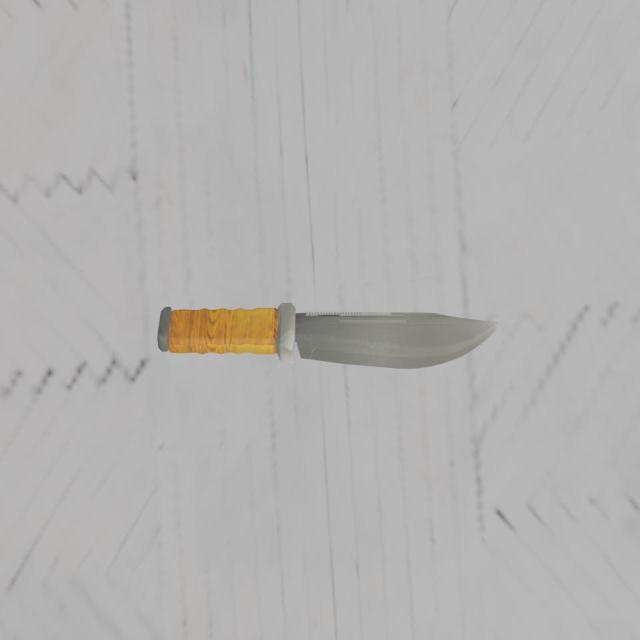knife: (160, 303, 296, 354)
